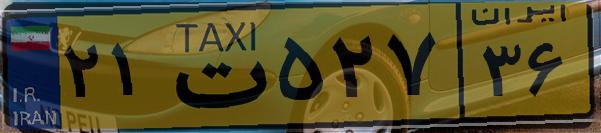1: (110, 28, 158, 98)
2: (330, 28, 385, 110), (57, 26, 110, 100)
3: (475, 38, 525, 113)
5: (270, 28, 330, 110)
6: (525, 38, 570, 115)
7: (385, 28, 445, 110)
ت: (158, 12, 270, 120)
